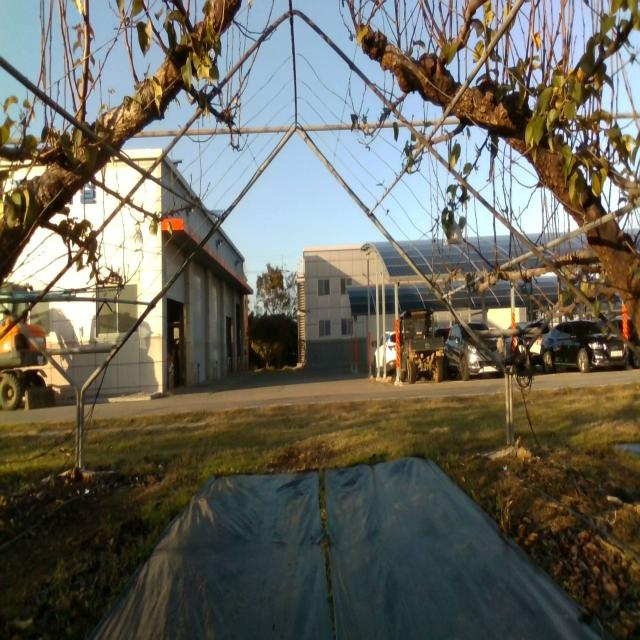pearbags: (444, 220, 464, 248), (130, 226, 143, 253)
